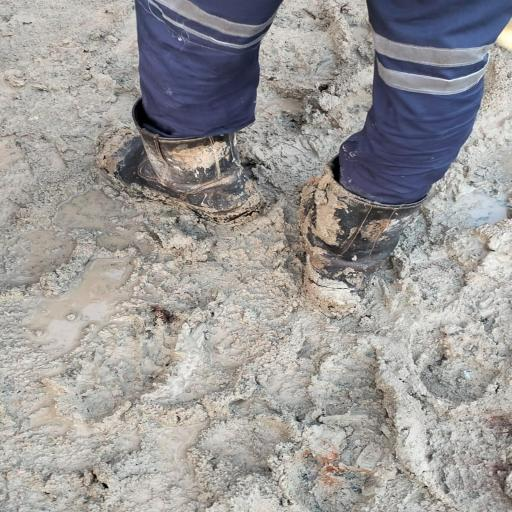safety_shoe: (85, 110, 268, 222), (299, 171, 389, 297)
